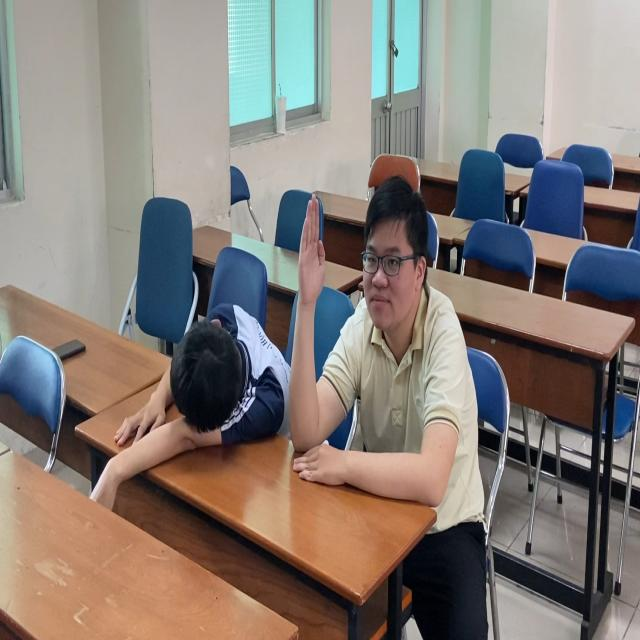raise_hand: (289, 171, 487, 530)
sleep: (103, 290, 288, 466)
